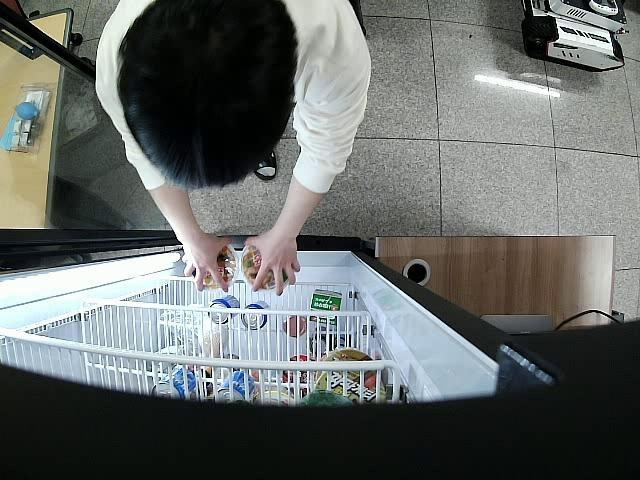09_yukGaeJang: (241, 243, 295, 293), (193, 240, 238, 290)
